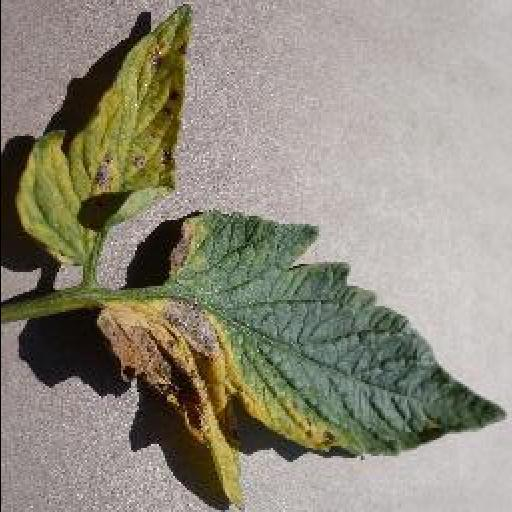Early Blight: (90, 210, 508, 512)
